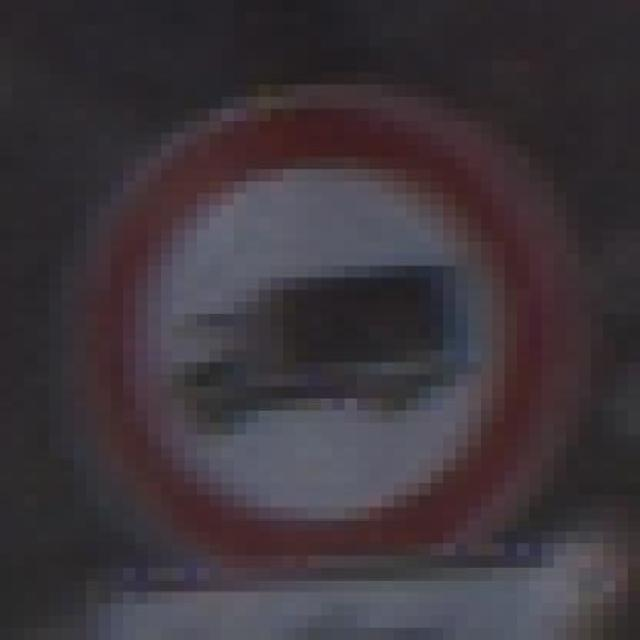Truck traffic is prohibited: (25, 72, 628, 592)
